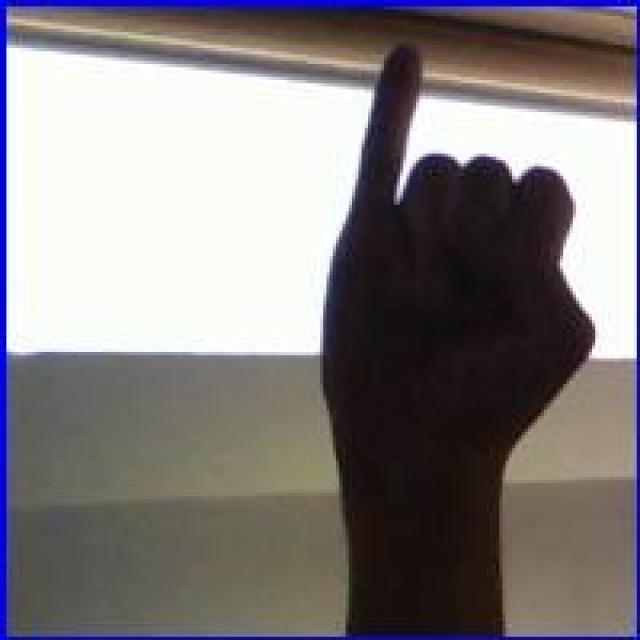I: (314, 41, 598, 538)
